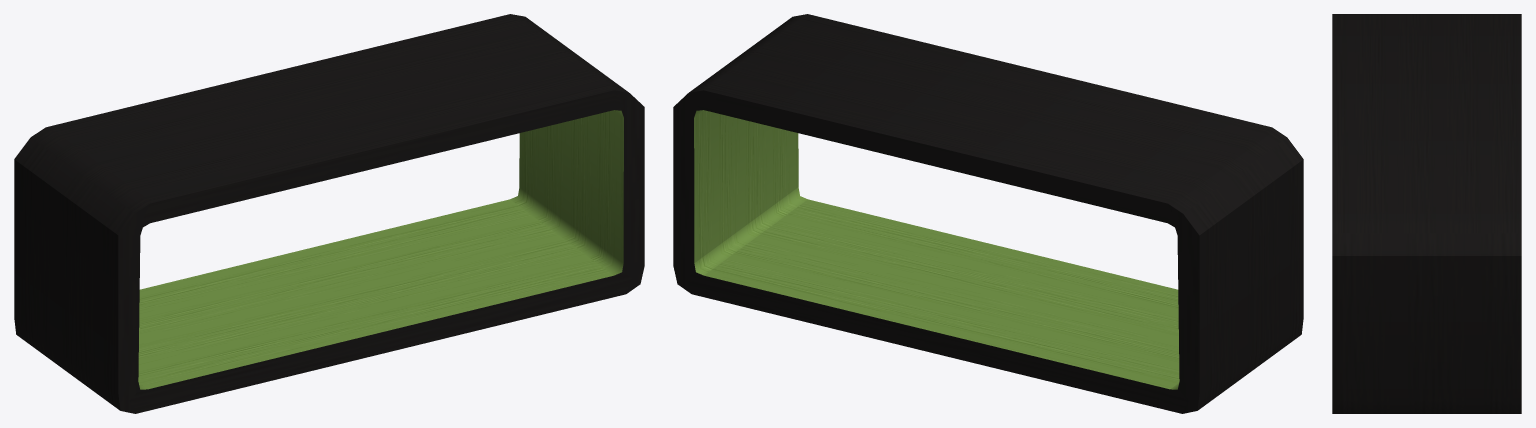
File: Wall_Shelf_01_B.FBX
The picture shows the model from 3 angles, left to right: view 1: azimuth 30°, elevation 25°; view 2: azimuth 150°, elevation 25°; view 3: azimuth 270°, elevation 25°; orthographic projection. The views are drawn at different scales.
Parts seen in each view (by area): view 1: Wall_Shelf; view 2: Wall_Shelf; view 3: Wall_Shelf.
Boxes of the visible parts, bbox=[...] form: Wall_Shelf: bbox=[14, 14, 644, 413]; Wall_Shelf: bbox=[673, 14, 1303, 413]; Wall_Shelf: bbox=[1332, 14, 1521, 413].
Size of the model in its own units: 160 by 60.21 by 54.97.
